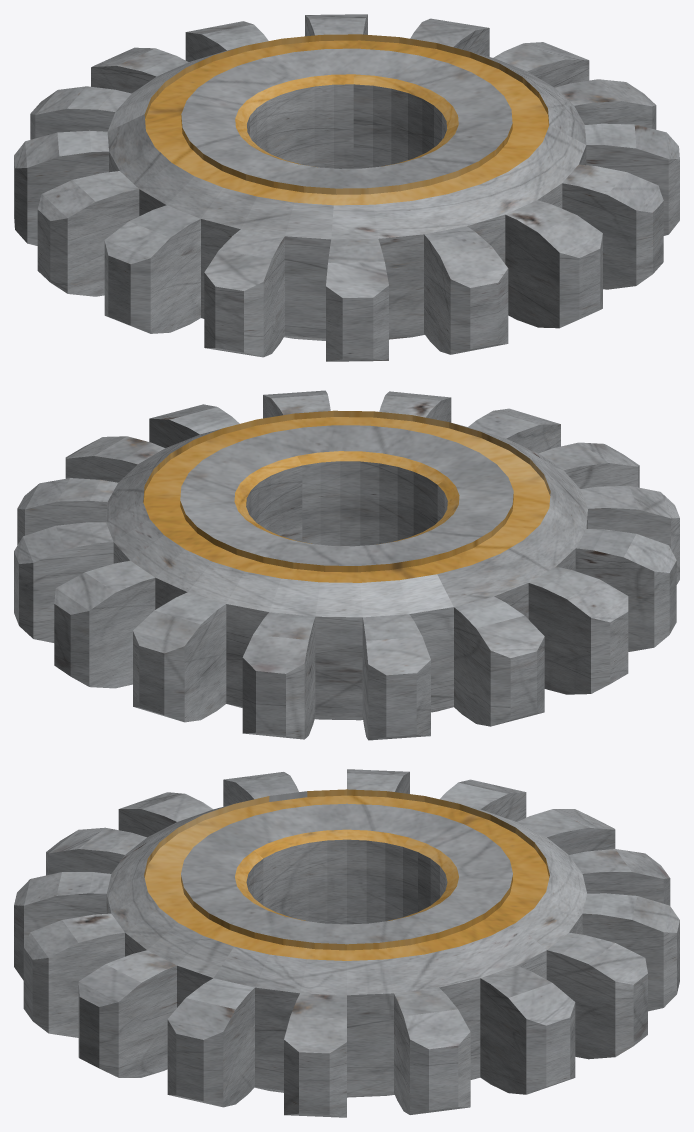
The model's file is gear.fbx.
3 views of the same model, one above another, from view 1: azimuth 30°, elevation 25°; view 2: azimuth 150°, elevation 25°; view 3: azimuth 270°, elevation 25° (orthographic).
Parts seen in each view (by area): view 1: Cylinder; view 2: Cylinder; view 3: Cylinder.
Part boxes in pixels (x1=…): Cylinder: x1=14, y1=14, x2=679, y2=361; Cylinder: x1=14, y1=390, x2=679, y2=740; Cylinder: x1=14, y1=769, x2=679, y2=1117.
Bounding box in the file's own units: 282 × 64.98 × 282.
Materials: 2 (2 with a texture image).
